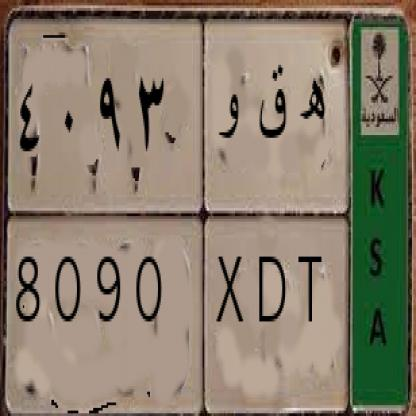english: (2, 212, 352, 407)
